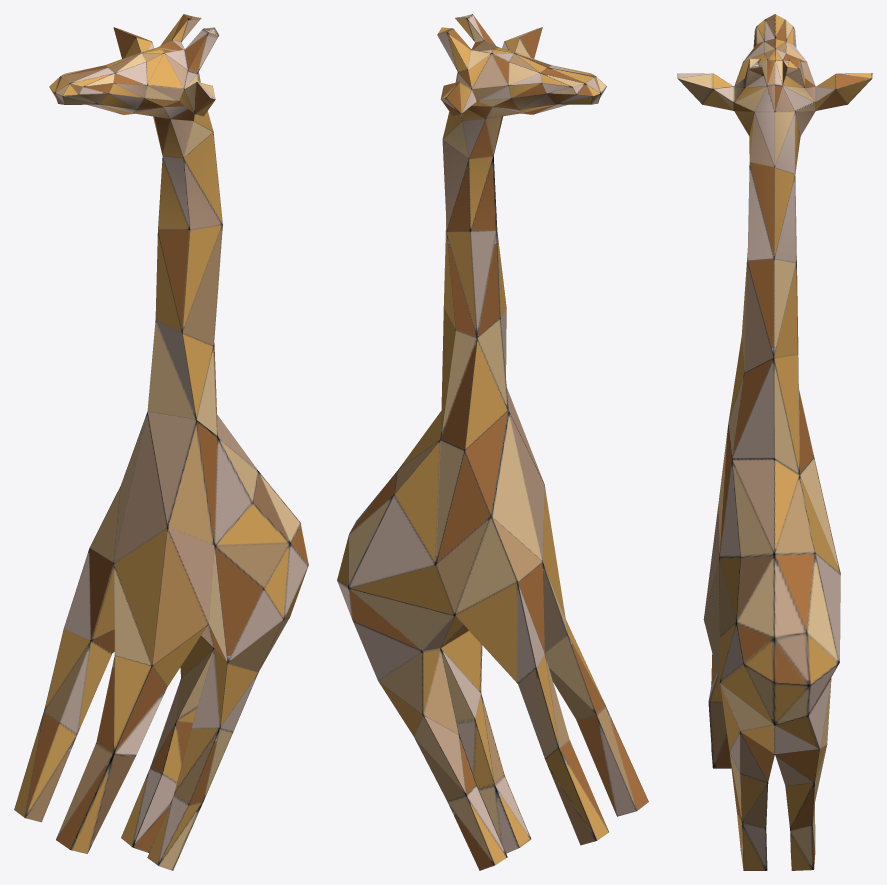
The model's file is Giraffe.dae.
3 views of the same model, side by side, from view 1: azimuth 30°, elevation 25°; view 2: azimuth 150°, elevation 25°; view 3: azimuth 270°, elevation 25° (orthographic).
Parts seen in each view (by area): view 1: Giraffe; view 2: Giraffe; view 3: Giraffe.
Part boxes in pixels (bbox=[...]): Giraffe: bbox=[14, 14, 308, 870]; Giraffe: bbox=[337, 14, 648, 870]; Giraffe: bbox=[677, 14, 872, 870].
Size of the model in its own units: 9.77 by 6.06 by 28.51.
Materials: 1 (1 with a texture image).
